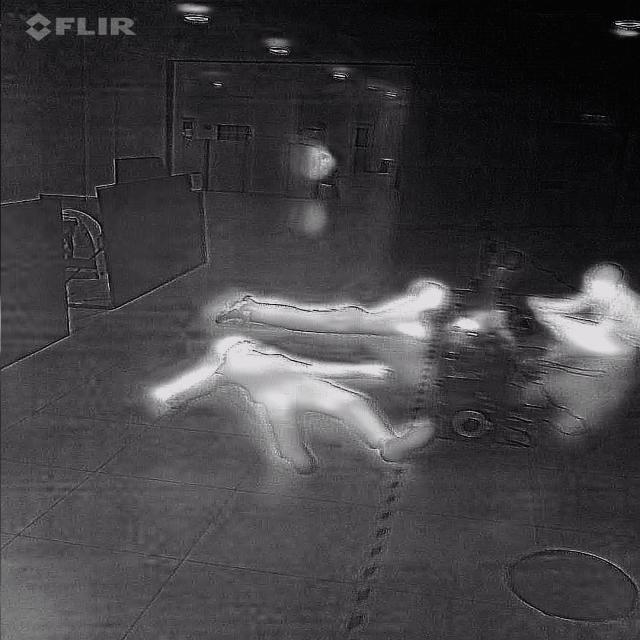Victim: (157, 334, 437, 470), (205, 274, 450, 341), (520, 256, 639, 361)
